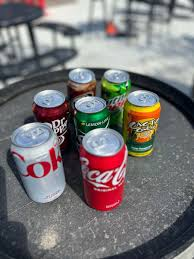can: (8, 66, 161, 216)
